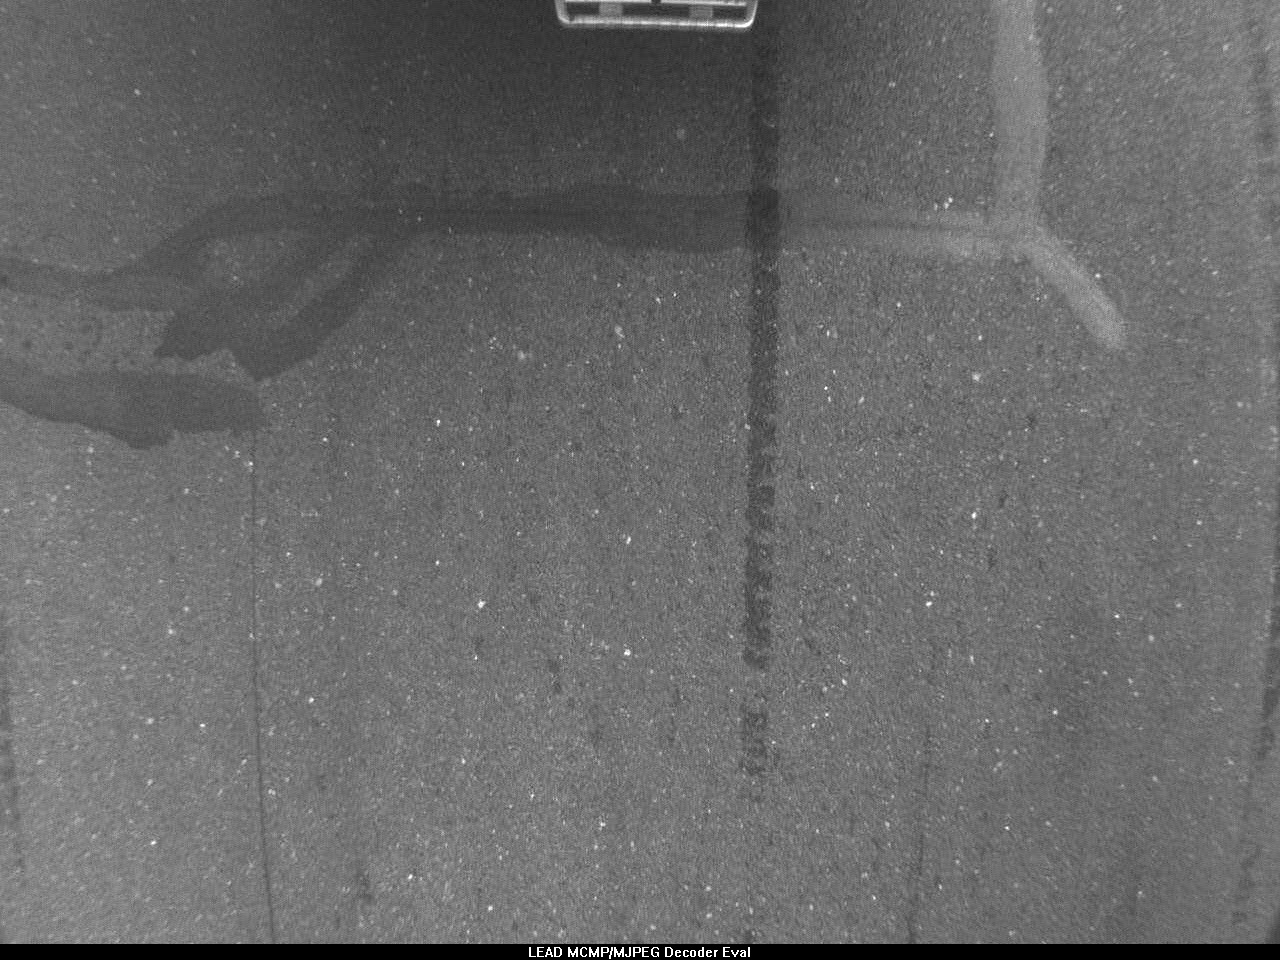sealed: (15, 10, 1153, 434)
